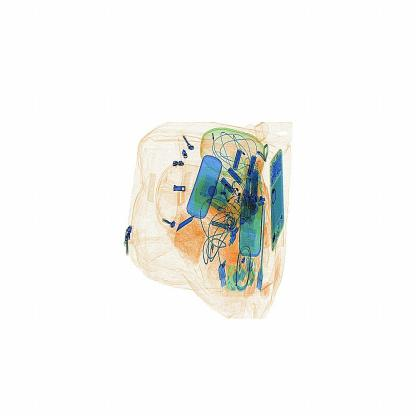pliers: (172, 212, 197, 237)
